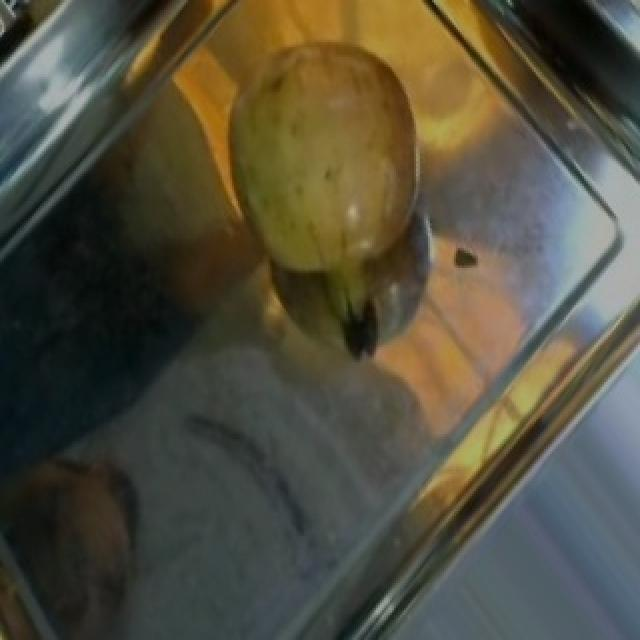fruit: (200, 5, 450, 270)
